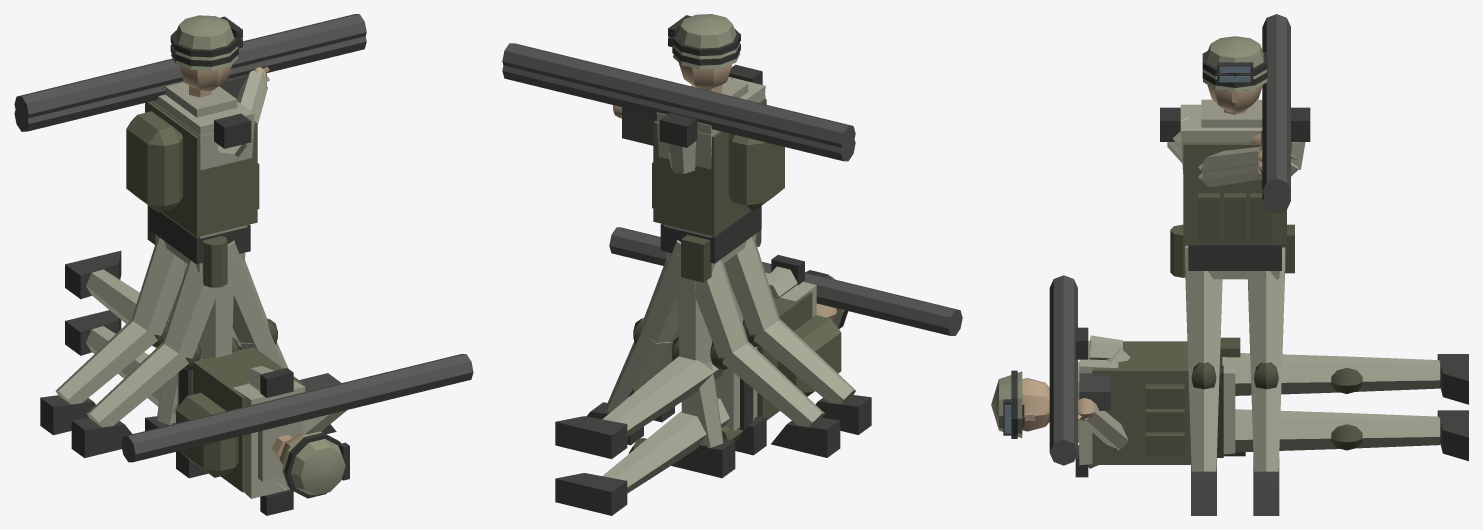
The picture shows the model from 3 angles, left to right: view 1: azimuth 30°, elevation 25°; view 2: azimuth 150°, elevation 25°; view 3: azimuth 270°, elevation 25°; orthographic projection.
Parts seen in each view (by area): view 1: dead, hull, pose0, pose1, pose3; view 2: dead, hull, pose0, pose3, pose1; view 3: dead, hull, pose0, pose3, pose1.
Part boxes in pixels (x1=…): dead: x1=65, y1=250, x2=473, y2=515; hull: x1=14, y1=14, x2=366, y2=474; pose0: x1=14, y1=36, x2=366, y2=478; pose1: x1=40, y1=237, x2=336, y2=435; pose3: x1=71, y1=249, x2=242, y2=457; dead: x1=555, y1=227, x2=962, y2=515; hull: x1=502, y1=14, x2=855, y2=474; pose0: x1=502, y1=37, x2=855, y2=478; pose3: x1=586, y1=236, x2=871, y2=445; pose1: x1=653, y1=248, x2=840, y2=457; dead: x1=991, y1=275, x2=1468, y2=477; hull: x1=1160, y1=14, x2=1310, y2=459; pose0: x1=1160, y1=69, x2=1310, y2=355; pose3: x1=1185, y1=246, x2=1285, y2=515; pose1: x1=1185, y1=247, x2=1222, y2=515.
Bounding box in the file's own units: 1.5 × 1.84 × 1.84.
